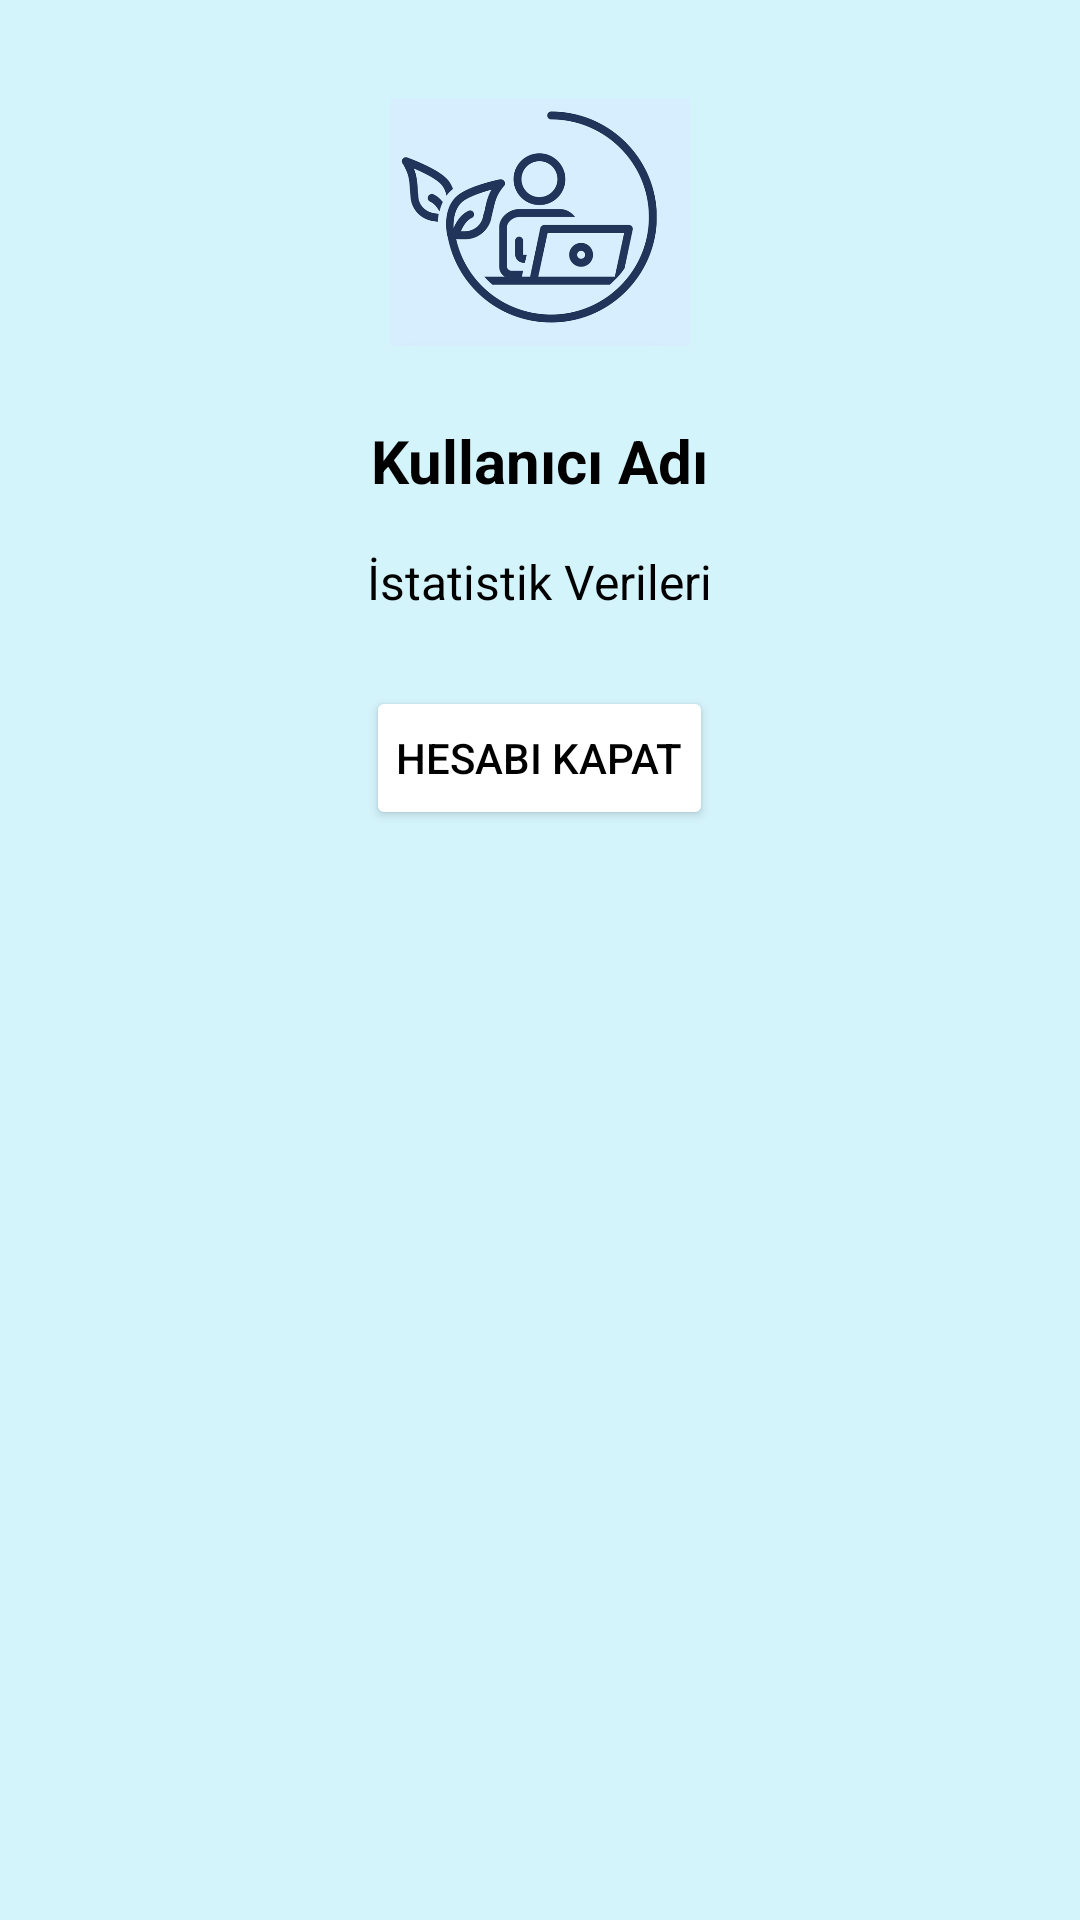

Screen size 1080w x 1920h. Icon name, then its box in pixels as (x1, y1, x2, y2):
user: (401, 111, 657, 323)
